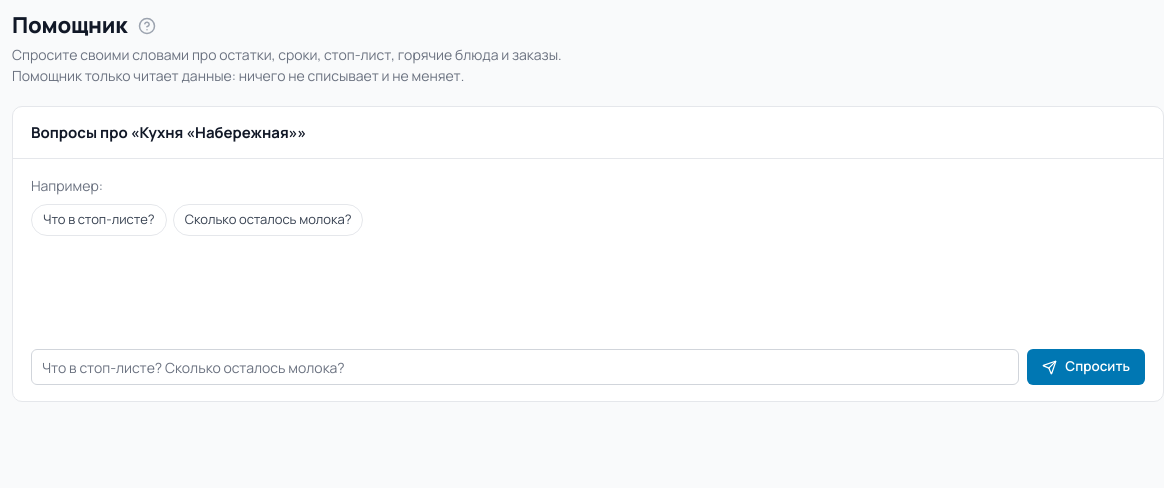
Test case: страница помощника › нажатие на подсказку задаёт этот вопрос
Click the button "Что в стоп-листе?" at (99, 220), box left=31, top=204, right=167, bottom=236
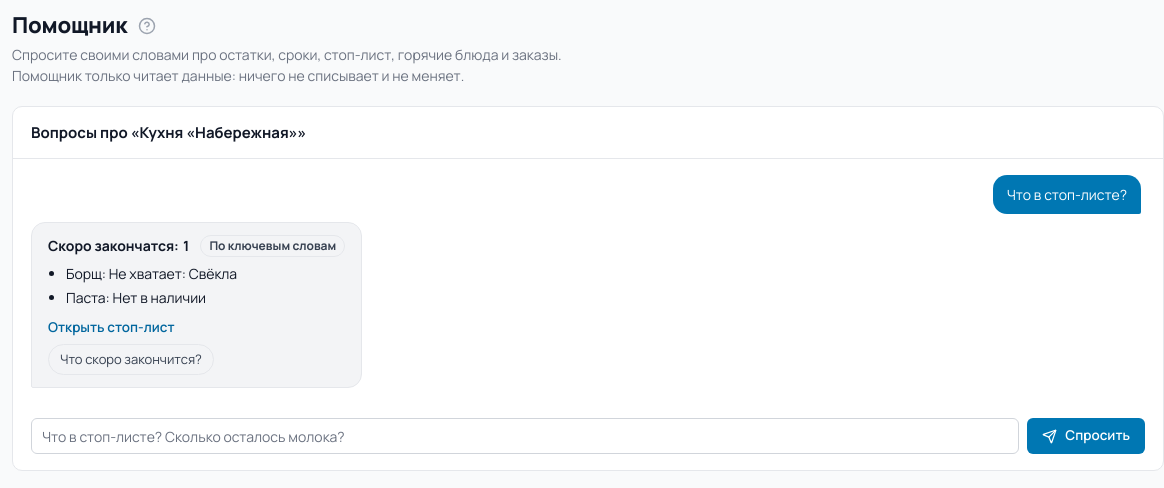
Expected: the text "По ключевым словам" is shown, left=200, top=235, right=345, bottom=257
